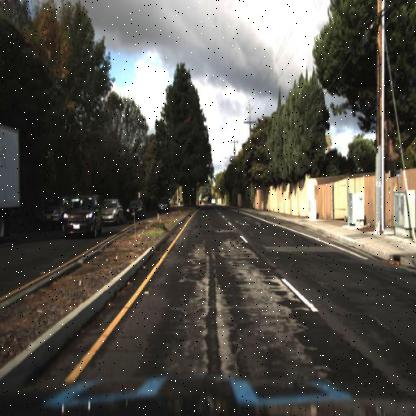car: (56, 192, 102, 242), (62, 195, 104, 239), (98, 193, 124, 230), (102, 196, 120, 230), (124, 197, 146, 221), (125, 196, 146, 221)
truck: (0, 126, 22, 242)
